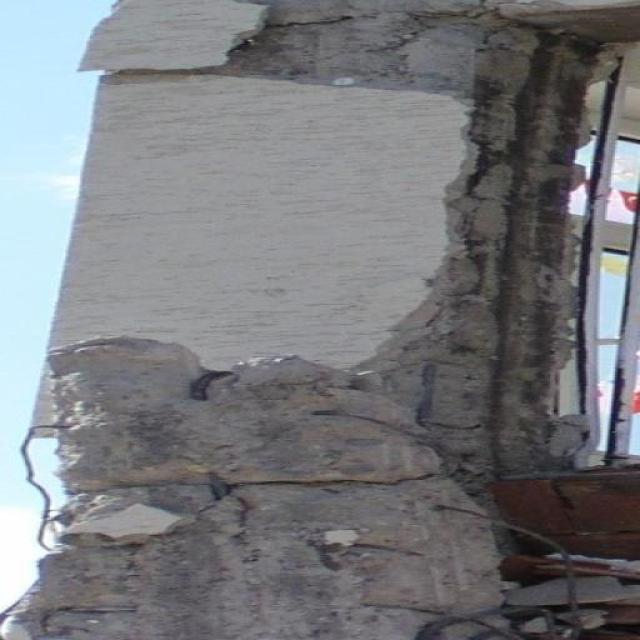D0w0: (8, 0, 599, 639)
